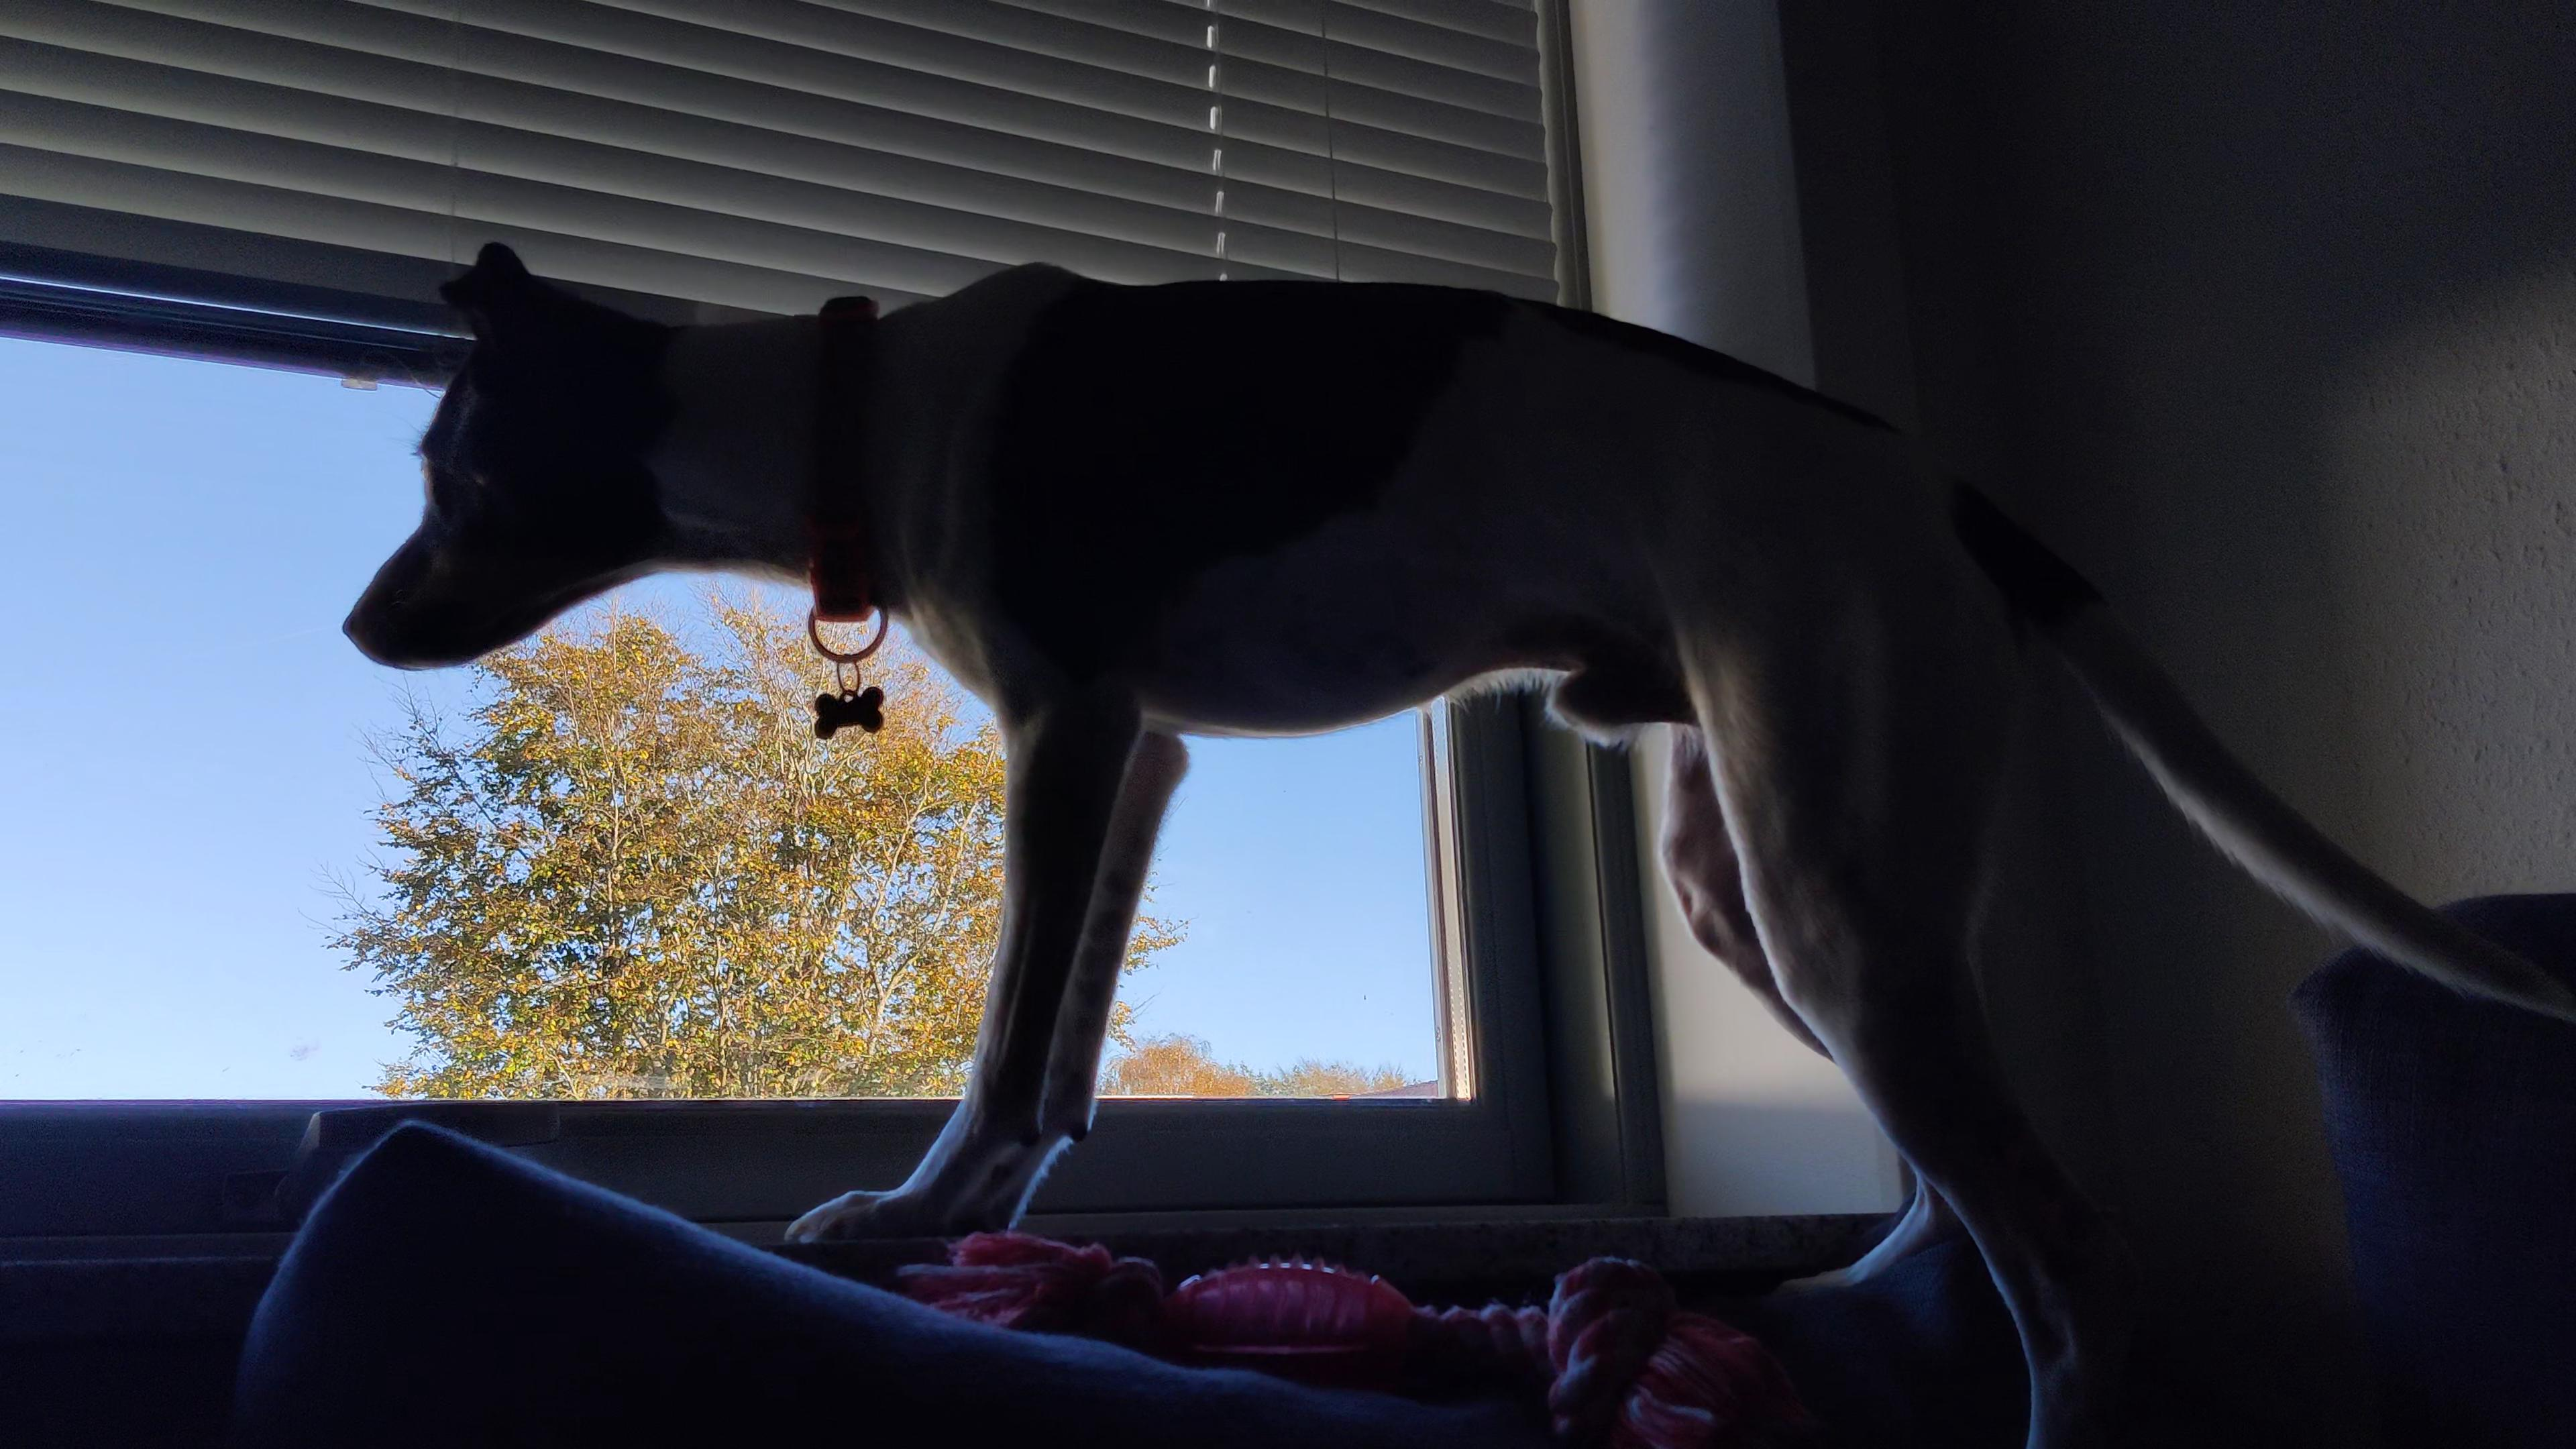Dog: (329, 225, 2576, 1449)
